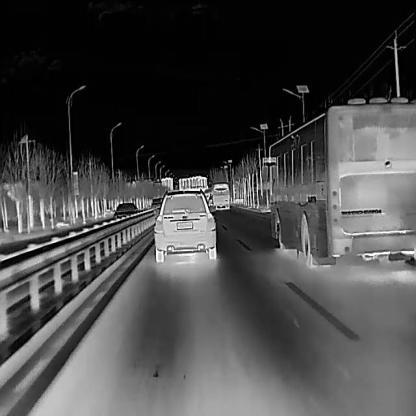car: (261, 103, 415, 268), (153, 186, 216, 262), (110, 201, 138, 223), (209, 181, 228, 209), (150, 196, 163, 212)
